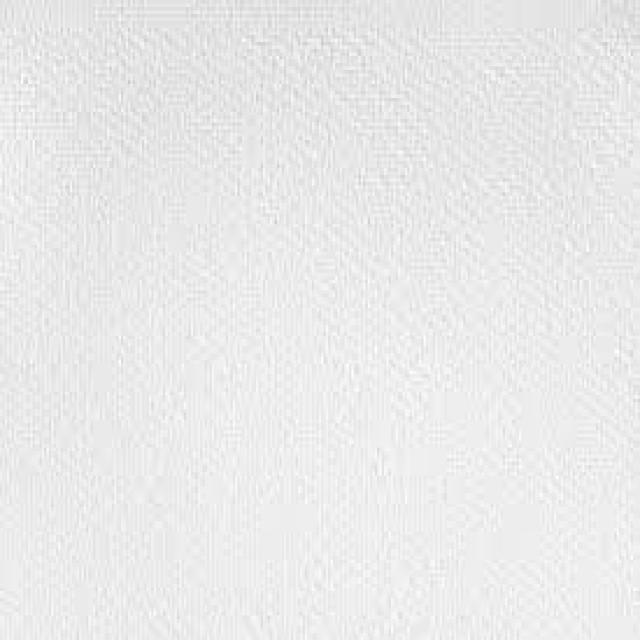rough and patchy surface: (6, 11, 632, 625)
